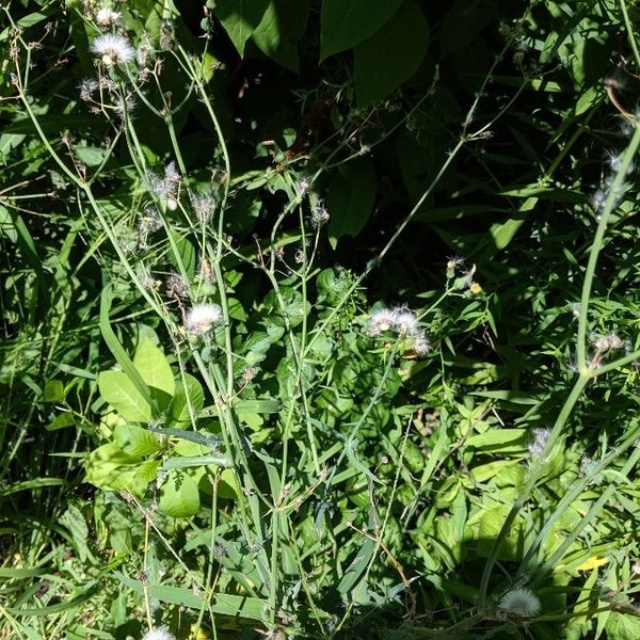obstacle: (33, 18, 459, 591)
